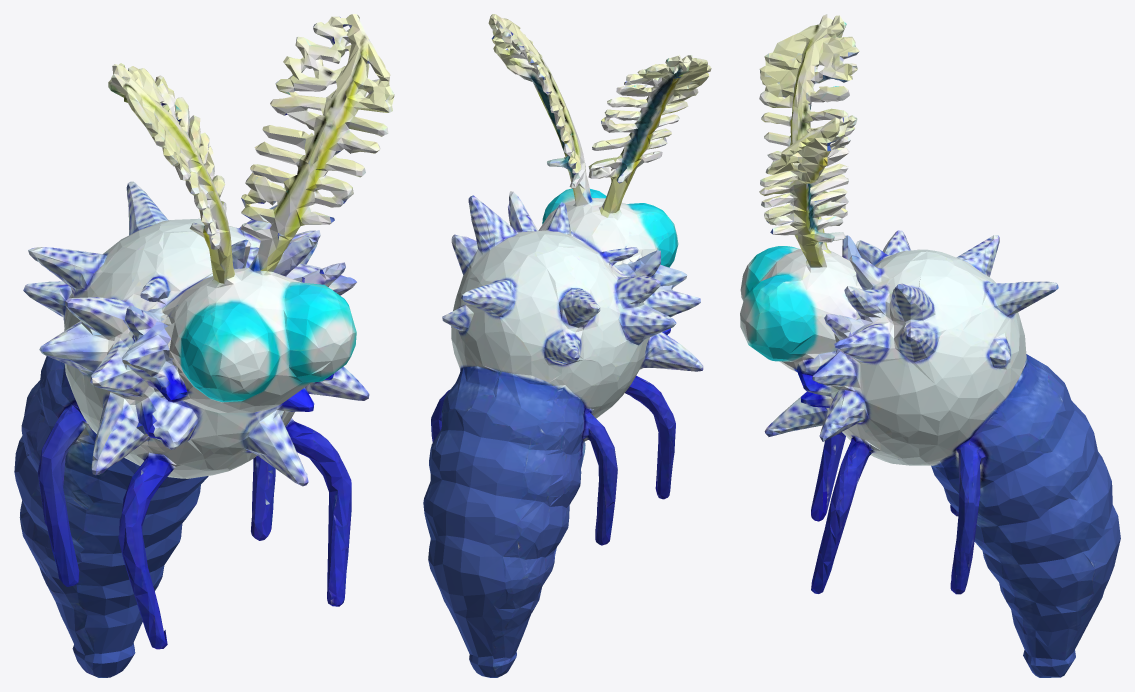
The model's file is creature-017.lod.glb.
3 renders of one model, left to right at view 1: azimuth 30°, elevation 25°; view 2: azimuth 150°, elevation 25°; view 3: azimuth 270°, elevation 25°, orthographic. The views are drawn at different scales.
Parts seen in each view (by area): view 1: tmpd1s1wlce.ply; view 2: tmpd1s1wlce.ply; view 3: tmpd1s1wlce.ply.
Part boxes in pixels (x1,y1,x2,y2): tmpd1s1wlce.ply: [14, 14, 394, 677]; tmpd1s1wlce.ply: [423, 14, 711, 677]; tmpd1s1wlce.ply: [740, 14, 1120, 677].
Size of the model in its own units: 0.4156 by 1.02 by 0.575.
Materials: 1 (1 with a texture image).
